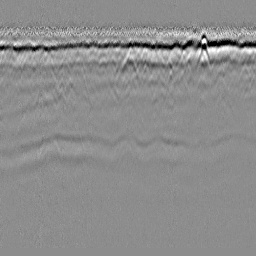cavity: (115, 49, 142, 85)
